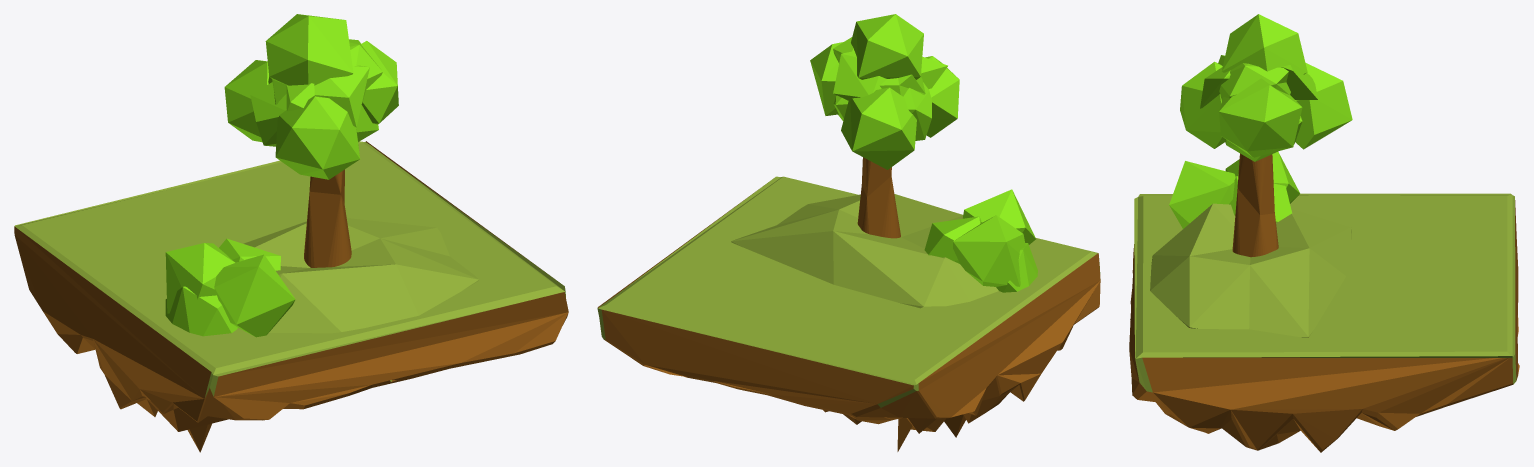
Rendered from island.glb.
3 renders of one model, left to right at view 1: azimuth 30°, elevation 25°; view 2: azimuth 150°, elevation 25°; view 3: azimuth 270°, elevation 25°, orthographic. The views are drawn at different scales.
Visible parts, largest first — view 1: Ground, Tree, Bush; view 2: Ground, Tree, Bush; view 3: Ground, Tree, Bush.
Boxes of the visible parts, x1,y1,x2,y2 form: Ground: [14, 141, 568, 452]; Tree: [224, 14, 398, 267]; Bush: [165, 238, 295, 337]; Ground: [597, 176, 1100, 451]; Tree: [810, 14, 959, 238]; Bush: [924, 189, 1037, 292]; Ground: [1129, 193, 1519, 452]; Tree: [1180, 14, 1352, 257]; Bush: [1169, 152, 1300, 228].
Size of the model in its own units: 17.62 by 18.65 by 16.35.
